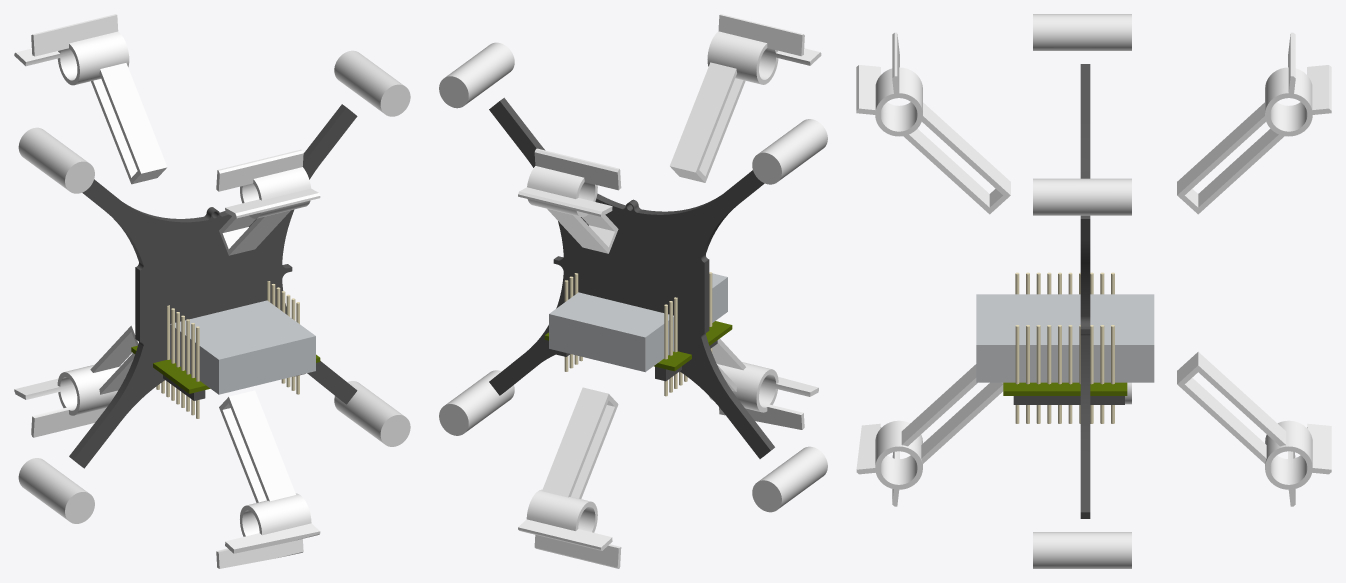
File: crazyflie1_centered.dae
3 views of the same model, side by side, from view 1: azimuth 30°, elevation 25°; view 2: azimuth 150°, elevation 25°; view 3: azimuth 270°, elevation 25° (orthographic). The views are drawn at different scales.
Visible parts, largest first — view 1: pcb_001, MotorMountsSlanted_006, Part1_001, MotorMountsSlanted_004, MotorMountsSlanted_001, MotorMountsSlanted_003, MotorMountsSlanted_005, Motors2_001, Motors2_002, Motors2_004, Motors2_003, MotorMountsSlanted_002 (+2 smaller); view 2: pcb_001, Part1_001, MotorMountsSlanted_005, MotorMountsSlanted_003, MotorMountsSlanted_002, MotorMountsSlanted_004, MotorMountsSlanted_007, MotorMountsSlanted_006, Motors2_002, Motors2_001, Motors2_004, Motors2_003 (+2 smaller); view 3: Part1_001, MotorMountsSlanted_006, pcb_001, MotorMountsSlanted_003, MotorMountsSlanted_004, MotorMountsSlanted_007, MotorMountsSlanted_001, MotorMountsSlanted_002, Motors2_001, Motors2_002, Motors2_003, MotorMountsSlanted_005 (+2 smaller).
Part boxes in pixels (x1,y1,x2,y2): pcb_001: (69,104,357,468); MotorMountsSlanted_006: (216,390,320,568); Part1_001: (170,300,315,394); MotorMountsSlanted_004: (14,14,129,85); MotorMountsSlanted_001: (91,63,167,184); MotorMountsSlanted_003: (216,149,320,218); MotorMountsSlanted_005: (14,364,121,437); Motors2_001: (334,50,410,116); Motors2_002: (18,127,94,193); Motors2_004: (18,458,94,523); Motors2_003: (334,381,410,446); MotorMountsSlanted_002: (219,210,290,255); pcb_001: (489,97,774,458); Part1_001: (549,273,727,372); MotorMountsSlanted_005: (518,489,621,568); MotorMountsSlanted_003: (707,14,821,84); MotorMountsSlanted_002: (670,62,745,182); MotorMountsSlanted_004: (518,148,621,217); MotorMountsSlanted_007: (542,387,618,498); MotorMountsSlanted_006: (709,338,818,429); Motors2_002: (752,119,827,184); Motors2_001: (439,42,514,108); Motors2_004: (752,446,827,512); Motors2_003: (439,370,514,435); Part1_001: (976,294,1154,382); MotorMountsSlanted_006: (856,364,1003,506); pcb_001: (1080,64,1090,518); MotorMountsSlanted_003: (856,32,922,136); MotorMountsSlanted_004: (1265,32,1331,136); MotorMountsSlanted_007: (1177,352,1286,463); MotorMountsSlanted_001: (1177,102,1284,214); MotorMountsSlanted_002: (903,102,1010,214); Motors2_001: (1033,178,1131,215); Motors2_002: (1033,14,1131,50); Motors2_003: (1033,532,1131,568); MotorMountsSlanted_005: (1265,420,1331,506).
Size of the model in its own units: 0.0715 by 0.0796 by 0.0796.
